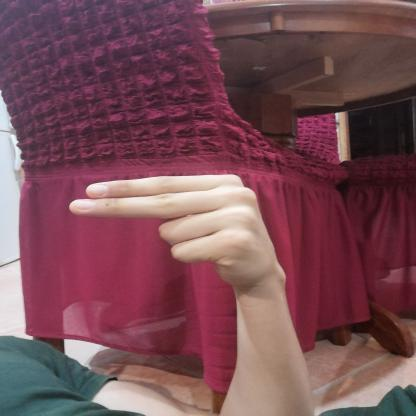AYN: (56, 160, 289, 296)
